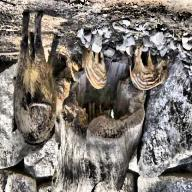boar: (0, 17, 63, 161), (123, 38, 175, 99), (79, 43, 102, 95)
